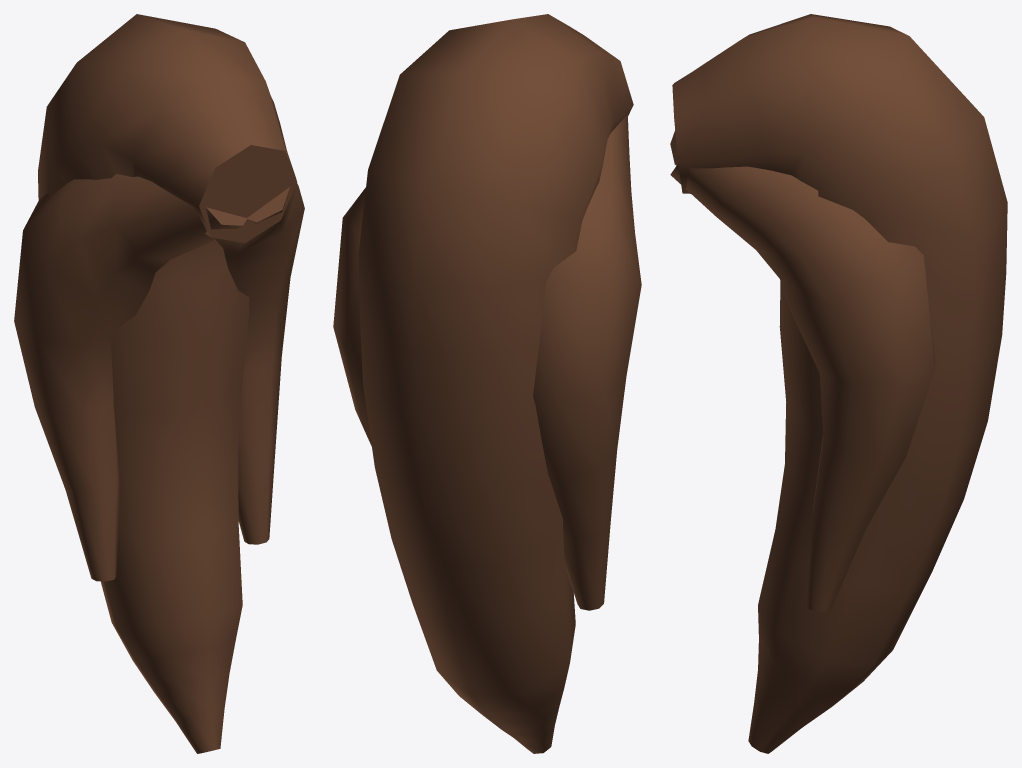
Rendered from hair_pony_sway.glb.
3 renders of one model, left to right at view 1: azimuth 30°, elevation 25°; view 2: azimuth 150°, elevation 25°; view 3: azimuth 270°, elevation 25°, orthographic. The views are drawn at different scales.
Parts seen in each view (by area): view 1: lock; view 2: lock; view 3: lock.
Boxes of the visible parts, box(x1,y1,x2,y2) form: lock: box(14, 14, 304, 753); lock: box(333, 14, 641, 753); lock: box(670, 14, 1007, 753).
Bounding box in the file's own units: 0.9406 × 2.47 × 1.03.
